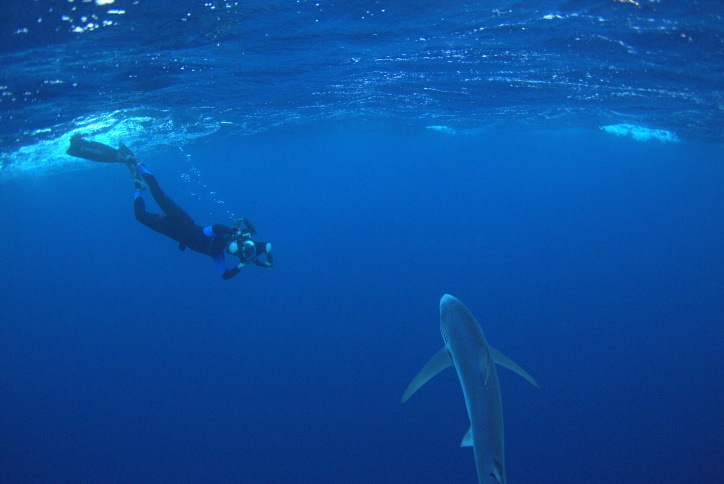Azul: (384, 272, 560, 481)
